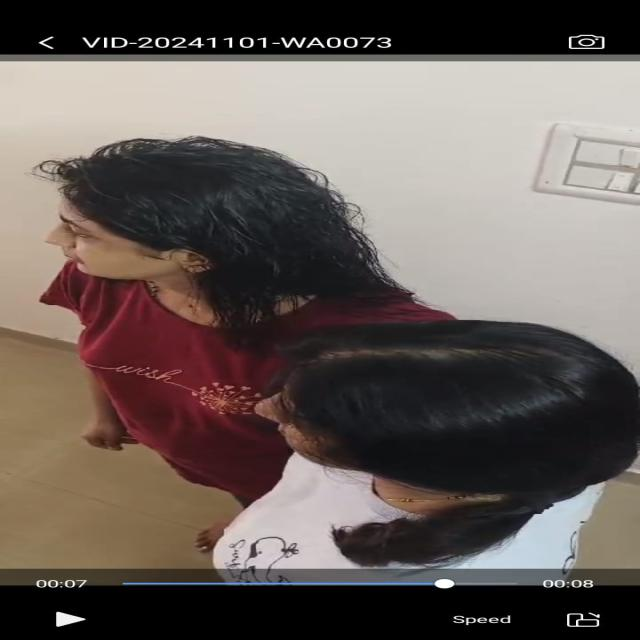humans: (241, 325, 639, 582), (33, 130, 483, 325)
